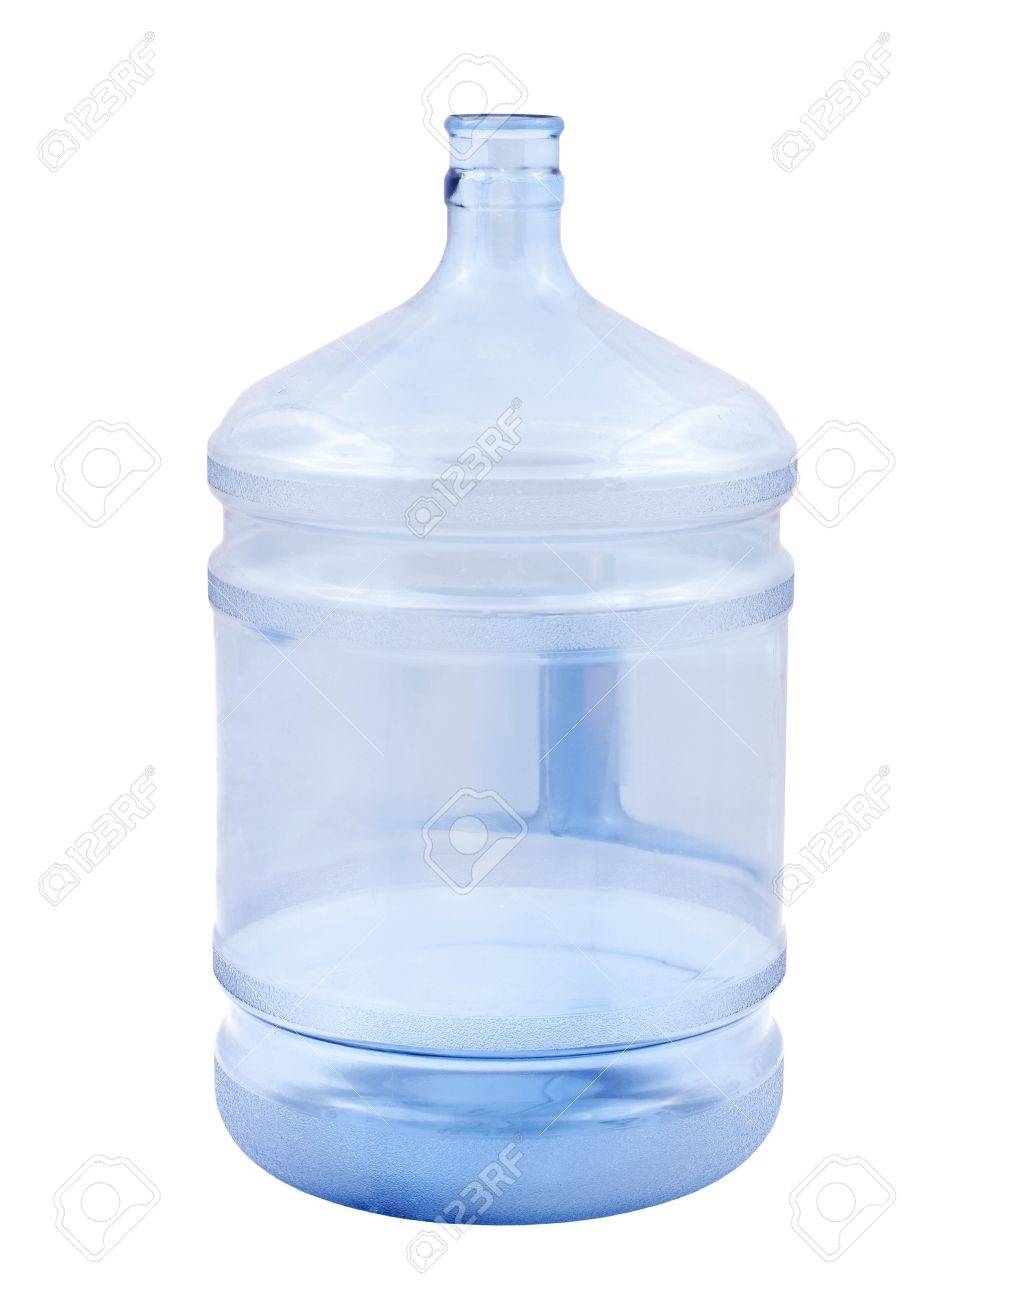emptybottle: (210, 114, 782, 1223)
